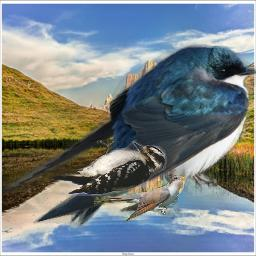Cuckoo: (94, 175, 185, 221)
Swallow: (2, 43, 256, 227)
Woodpecker: (47, 140, 173, 199)
